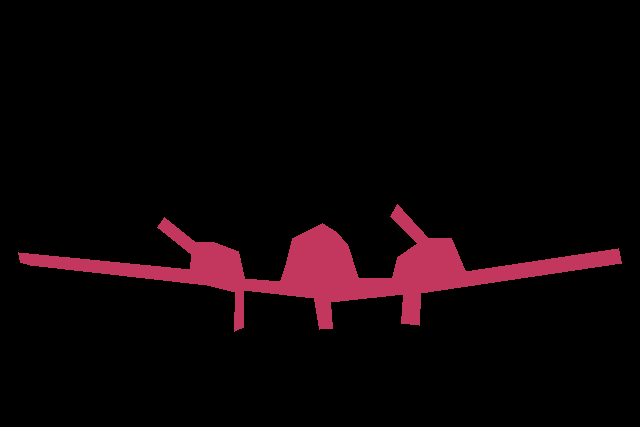Airplane: (18, 204, 622, 331)
